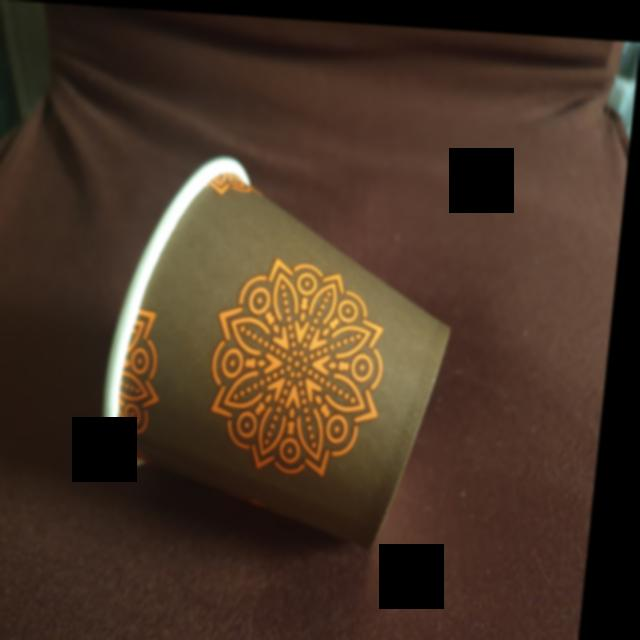cups: (87, 138, 489, 565)
